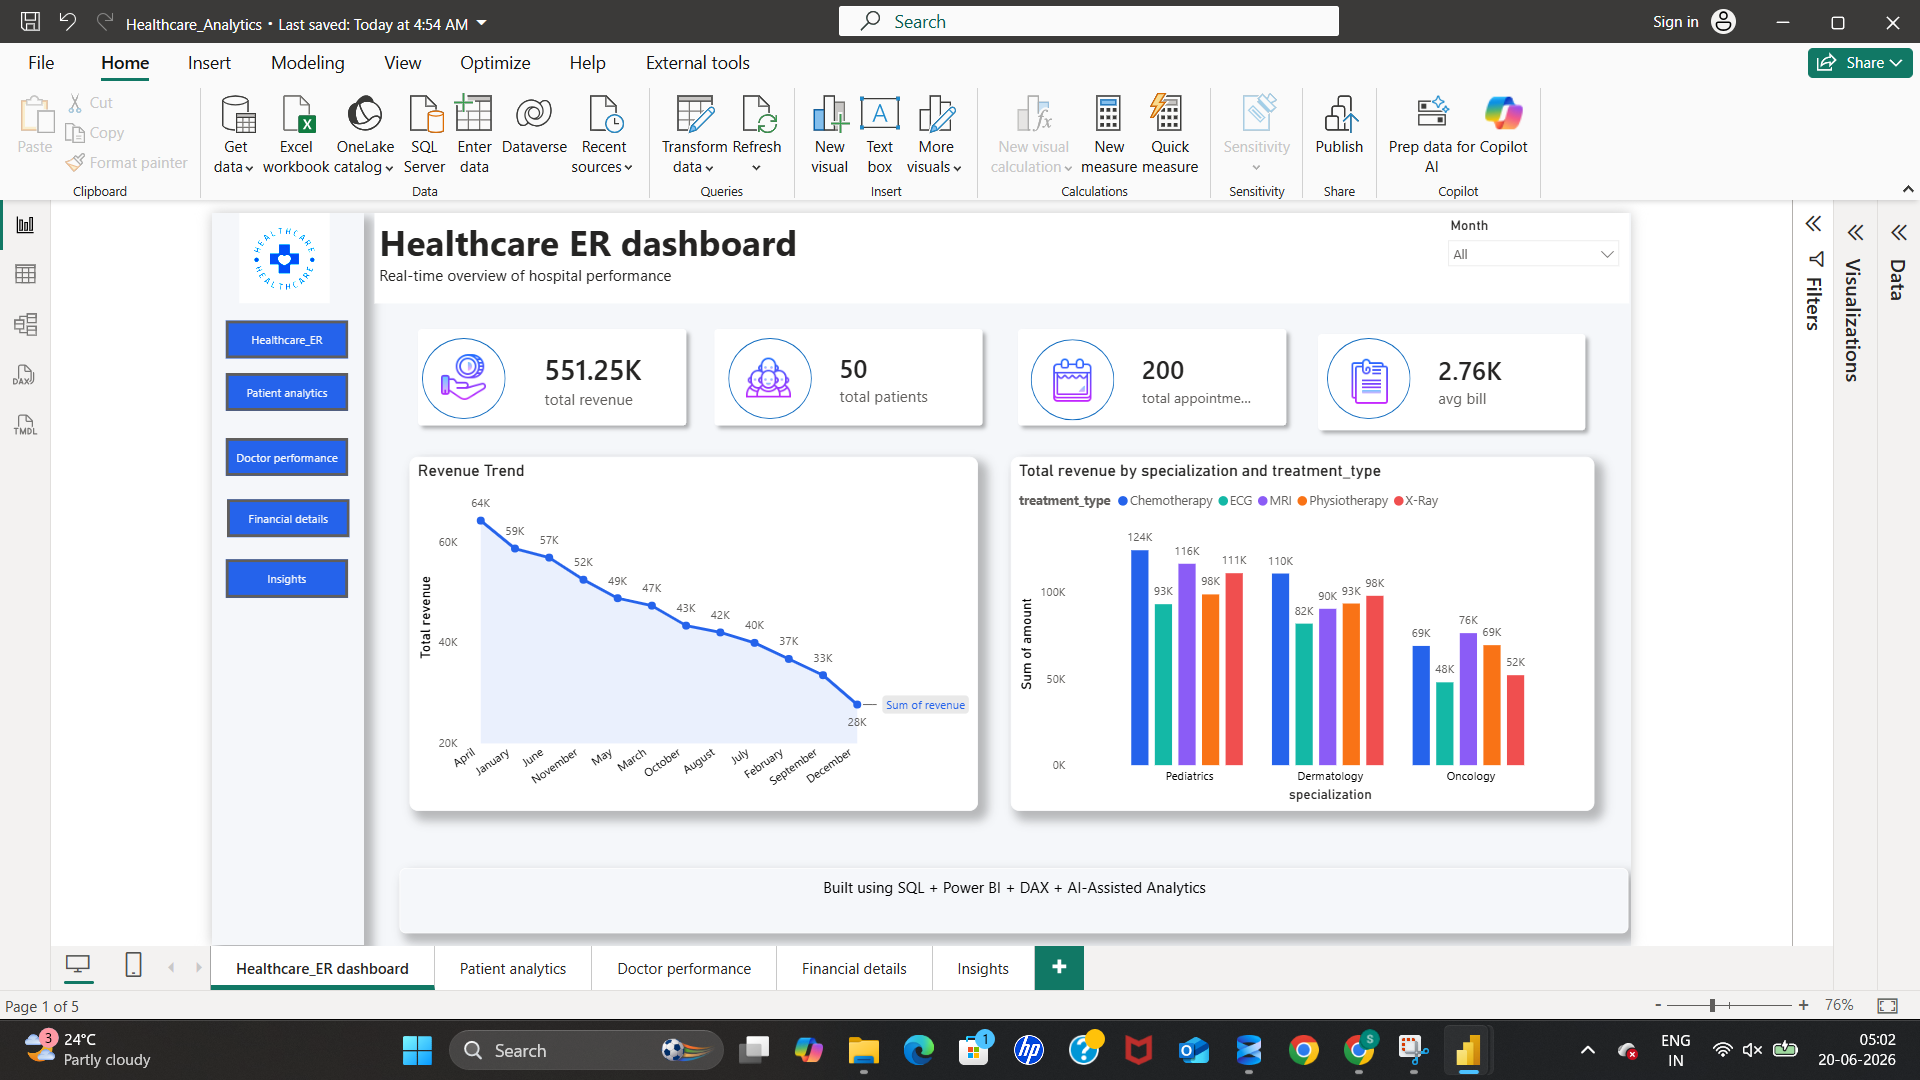

The dashboard page shown, as its layout file describes it:
{"tool":"powerbi","page":{"name":"Healthcare_ER dashboard","canvas":[1493,772],"ordinal":0},"visuals":[{"type":"shape","title":"Healthcare analytics","box":[0,0,159.8,770.4],"z":0},{"type":"actionButton","title":"Executive dashboard","box":[14.5,113.4,129.1,39.8],"z":1000},{"type":"image","box":[8.4,0,136.3,95.3],"z":2000},{"type":"actionButton","box":[14.5,168.9,129.1,39.8],"z":3000},{"type":"actionButton","box":[14.5,236.5,129.1,39.8],"z":4000},{"type":"actionButton","box":[15.7,301.6,129.1,39.8],"z":5000},{"type":"textbox","box":[170.7,0,1320.6,94.8],"z":6000},{"type":"slicer","fields":{"Values":["monthly_rev.month_name"]},"box":[1290.8,0,200.5,63.7],"z":7000},{"type":"shape","box":[207.5,113.4,300.4,119.4],"z":8000},{"type":"shape","box":[520,113.4,300.4,119.4],"z":9000},{"type":"shape","box":[839.7,113.4,300.4,119.4],"z":10000},{"type":"shape","box":[1155.4,117.8,299.3,119.2],"z":11000},{"type":"shape","box":[220.8,131.4,88,85.3],"z":12000},{"type":"shape","box":[543.1,131.4,88,85.3],"z":13000},{"type":"shape","box":[861.4,132.7,88,85.3],"z":14000},{"type":"shape","box":[1174.3,131.4,88,85.3],"z":15000},{"type":"image","box":[235.7,140.9,58.2,65],"z":16000},{"type":"image","box":[1189.2,144.9,58.2,65],"z":17000},{"type":"image","box":[556.7,140.9,58.2,65],"z":18000},{"type":"cardVisual","fields":{"Data":["billing.total revenue"]},"box":[319.7,127.3,174.7,92.1],"z":19000},{"type":"cardVisual","fields":{"Data":["patients.total patients"]},"box":[631.2,128.7,174.7,90.7],"z":20000},{"type":"cardVisual","fields":{"Data":["billing.total revenue"]},"box":[321,128.7,174.7,92.1],"z":21000},{"type":"cardVisual","fields":{"Data":["appointments.total appointments"]},"box":[949.5,127.3,178.8,94.8],"z":22000},{"type":"cardVisual","fields":{"Data":["billing.avg bill"]},"box":[1262.4,130,174.7,92.1],"z":23000},{"type":"lineChart","title":"Revenue Trend","fields":{"Category":["monthly_rev.month_name"],"Y":["Sum(monthly_rev.revenue)"]},"box":[207.5,256.3,598.1,373],"z":24000},{"type":"clusteredColumnChart","title":"Total revenue by specialization and treatment_type","fields":{"Category":["doctors.specialization"],"Series":["treatments.treatment_type"],"Y":["Sum(billing.amount)"]},"box":[840.9,256.3,614.4,373],"z":25000},{"type":"textbox","box":[197.4,689.5,1293.4,68.4],"z":26000},{"type":"image","box":[877.5,145.1,55.6,62.4],"z":27000},{"type":"actionButton","box":[14.5,364.4,128.7,40.5],"z":28000}]}

Visuals, with their boxes on the page's 1493x772 design canvas (x1, y1, x2, y2). These are canvas units, not pixel positions in the 1920x1080 screenshot, which may show the page scaled, cropped or inside an application window:
"Healthcare analytics" shape: (left=0, top=0, right=160, bottom=770)
"Executive dashboard" actionButton: (left=14, top=113, right=144, bottom=153)
image: (left=8, top=0, right=145, bottom=95)
actionButton: (left=14, top=169, right=144, bottom=209)
actionButton: (left=14, top=236, right=144, bottom=276)
actionButton: (left=16, top=302, right=145, bottom=341)
textbox: (left=171, top=0, right=1491, bottom=95)
slicer - monthly_rev.month_name: (left=1291, top=0, right=1491, bottom=64)
shape: (left=208, top=113, right=508, bottom=233)
shape: (left=520, top=113, right=820, bottom=233)
shape: (left=840, top=113, right=1140, bottom=233)
shape: (left=1155, top=118, right=1455, bottom=237)
shape: (left=221, top=131, right=309, bottom=217)
shape: (left=543, top=131, right=631, bottom=217)
shape: (left=861, top=133, right=949, bottom=218)
shape: (left=1174, top=131, right=1262, bottom=217)
image: (left=236, top=141, right=294, bottom=206)
image: (left=1189, top=145, right=1247, bottom=210)
image: (left=557, top=141, right=615, bottom=206)
cardVisual - billing.total revenue: (left=320, top=127, right=494, bottom=219)
cardVisual - patients.total patients: (left=631, top=129, right=806, bottom=219)
cardVisual - billing.total revenue: (left=321, top=129, right=496, bottom=221)
cardVisual - appointments.total appointments: (left=950, top=127, right=1128, bottom=222)
cardVisual - billing.avg bill: (left=1262, top=130, right=1437, bottom=222)
"Revenue Trend" lineChart: (left=208, top=256, right=806, bottom=629)
"Total revenue by specialization and treatment_type" clusteredColumnChart: (left=841, top=256, right=1455, bottom=629)
textbox: (left=197, top=690, right=1491, bottom=758)
image: (left=878, top=145, right=933, bottom=208)
actionButton: (left=14, top=364, right=143, bottom=405)
